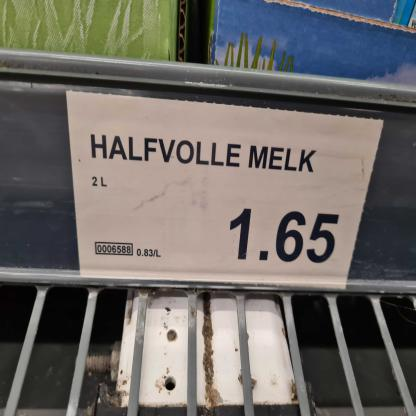prtg: (66, 91, 385, 291)
